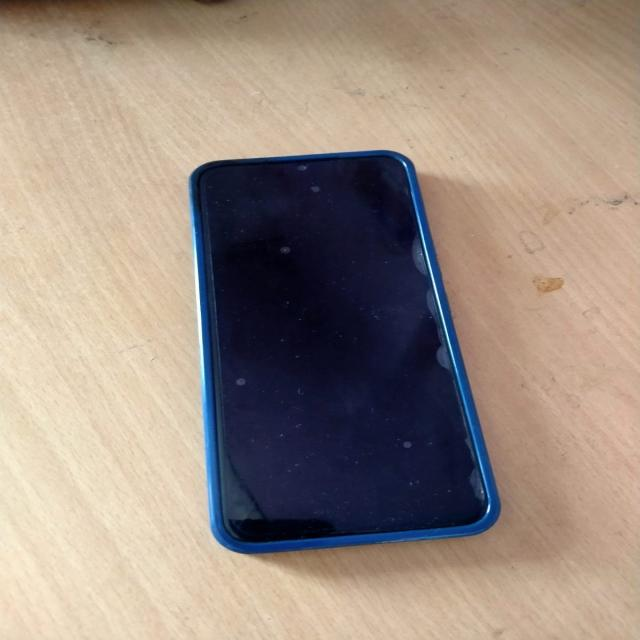Mobile: (180, 150, 500, 559)
